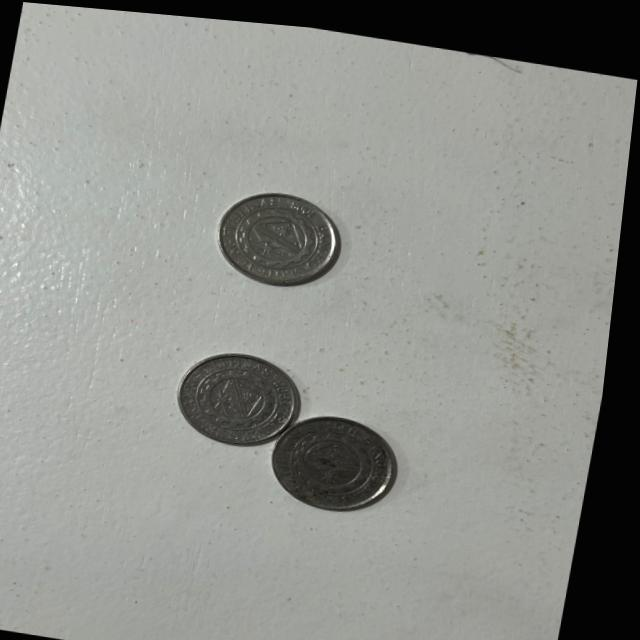1_Old_Back: (227, 190, 330, 271), (292, 418, 393, 494), (196, 356, 300, 429)
